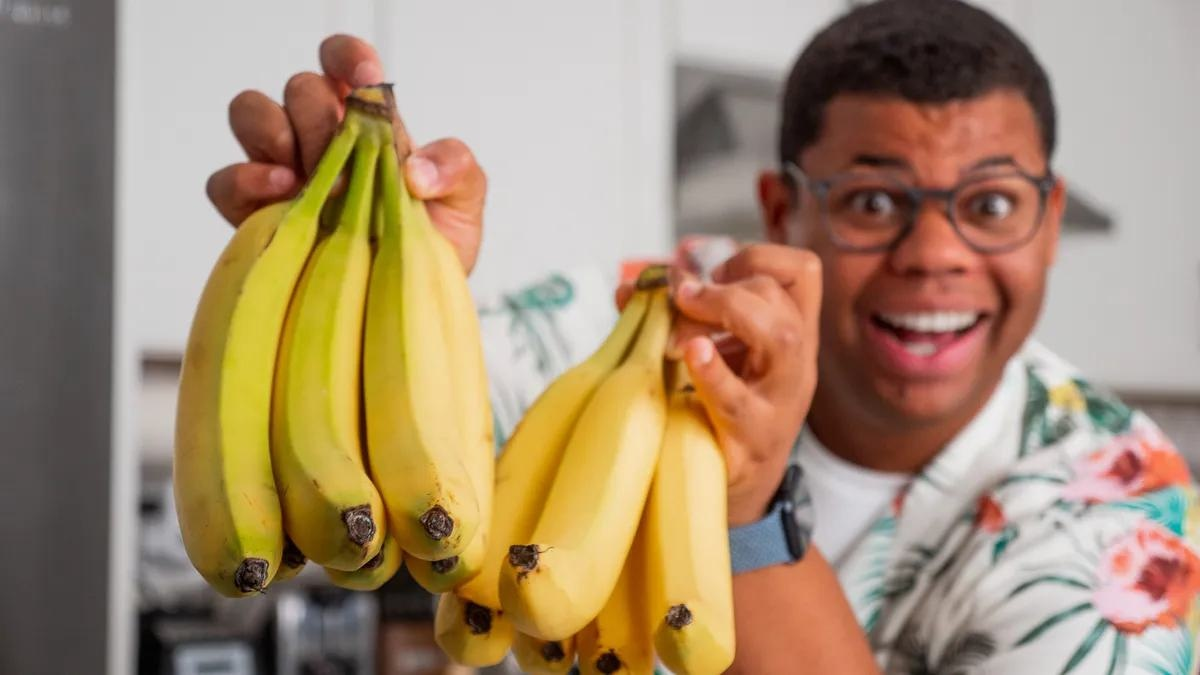apricot: (172, 80, 497, 599), (433, 263, 739, 673)
banana: (172, 81, 497, 600), (432, 263, 738, 674)
grapes: (173, 82, 740, 674), (172, 81, 496, 597), (432, 264, 737, 674)
melon: (172, 81, 497, 600)
